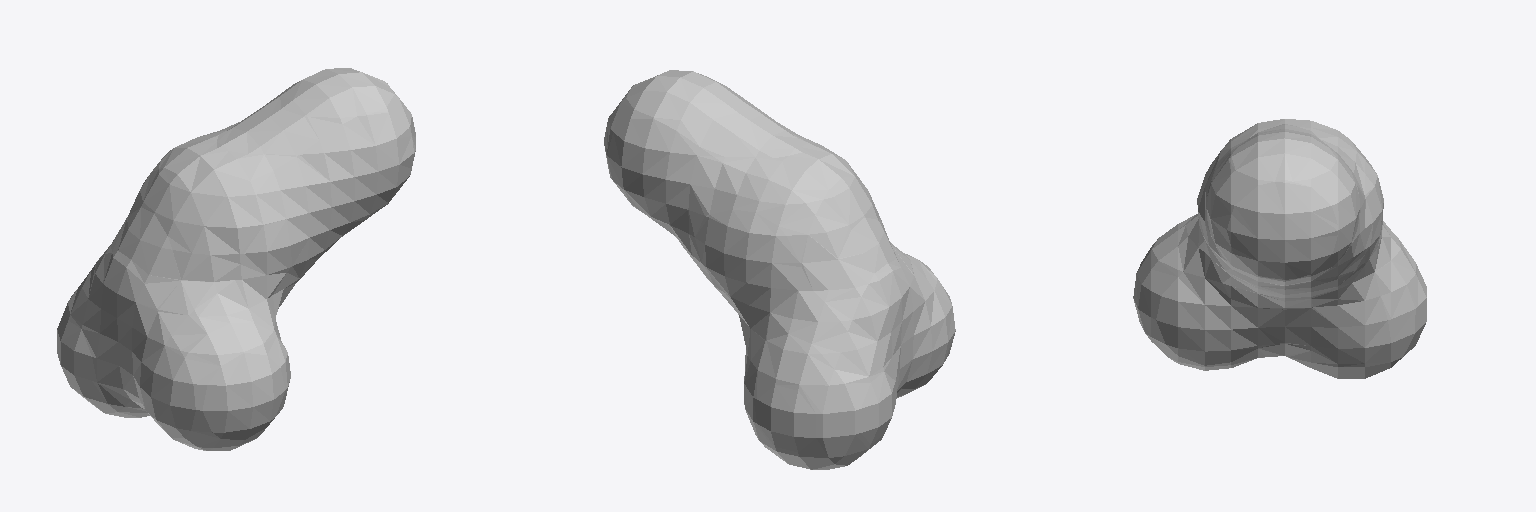
The picture shows the model from 3 angles: view 1: azimuth 30°, elevation 25°; view 2: azimuth 150°, elevation 25°; view 3: azimuth 270°, elevation 25°; orthographic projection.
Parts seen in each view (by area): view 1: Mball_Meta; view 2: Mball_Meta; view 3: Mball_Meta.
Boxes of the visible parts, <box> form: Mball_Meta: <box>57,68,415,450</box>; Mball_Meta: <box>604,70,955,469</box>; Mball_Meta: <box>1133,119,1426,378</box>.
Bounding box in the file's own units: 5.3 × 5.27 × 4.4.